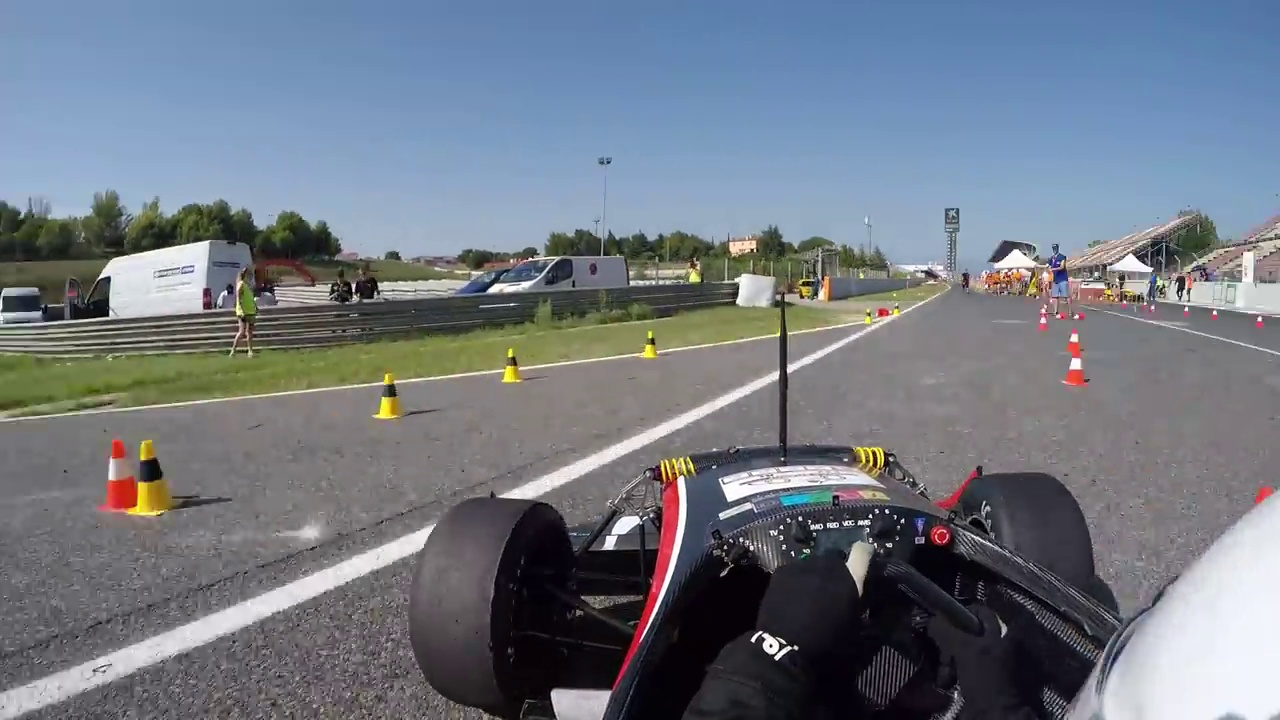Cone: (132, 434, 182, 516), (97, 439, 140, 511), (373, 372, 406, 421), (1062, 347, 1090, 388), (499, 344, 526, 385), (639, 330, 661, 359)
